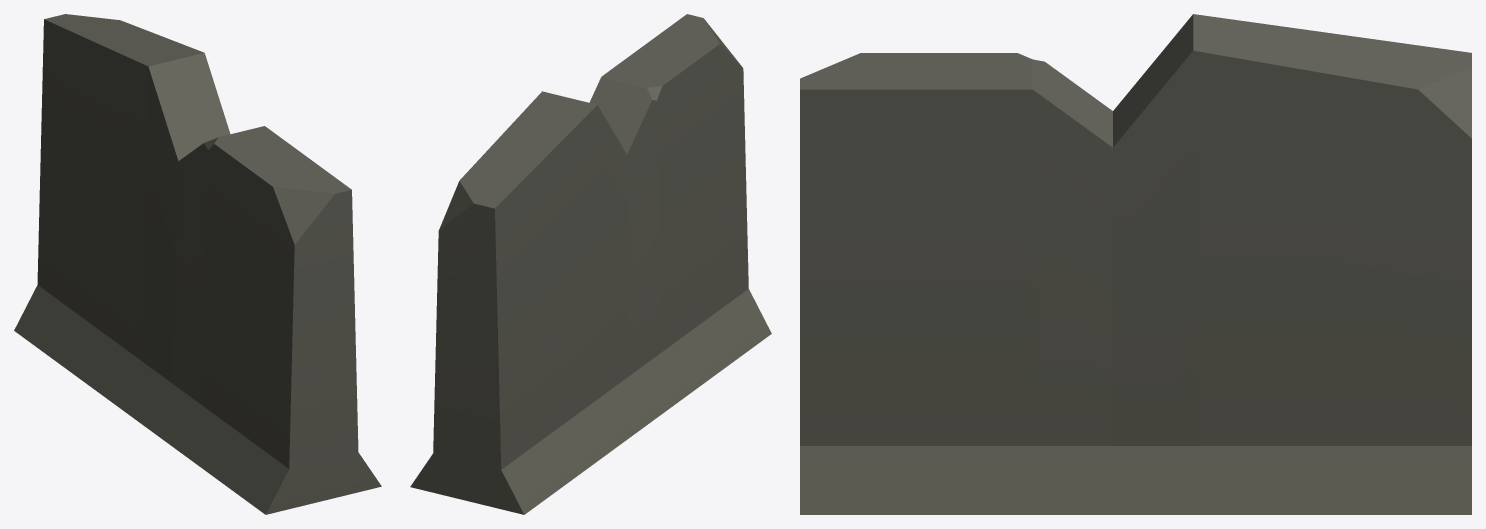
File: RoadPart_07.fbx
The picture shows the model from 3 angles, left to right: view 1: azimuth 30°, elevation 25°; view 2: azimuth 150°, elevation 25°; view 3: azimuth 270°, elevation 25°; orthographic projection. The views are drawn at different scales.
Parts seen in each view (by area): view 1: RoadPart_07; view 2: RoadPart_07; view 3: RoadPart_07.
Boxes of the visible parts, x1,y1,x2,y2 form: RoadPart_07: [14, 14, 381, 514]; RoadPart_07: [410, 14, 771, 514]; RoadPart_07: [800, 14, 1471, 514].
Size of the model in its own units: 0.4 by 1.1 by 1.5.
